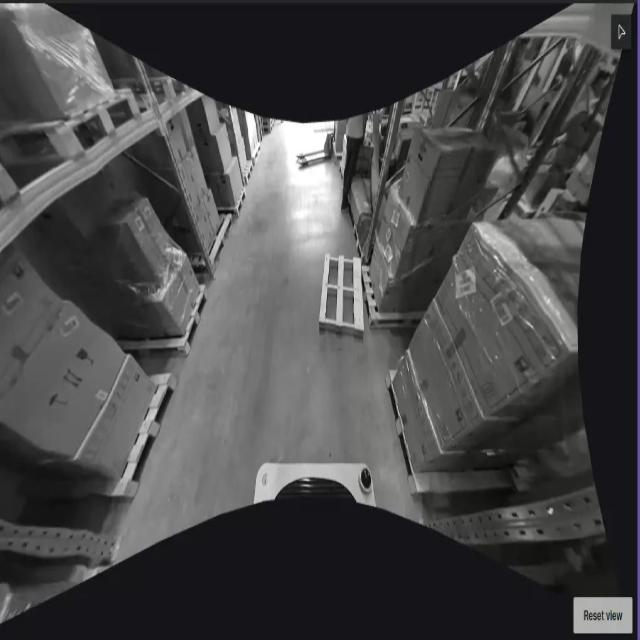Pallets-and-forklifts: (38, 376, 134, 498), (324, 254, 361, 336)
